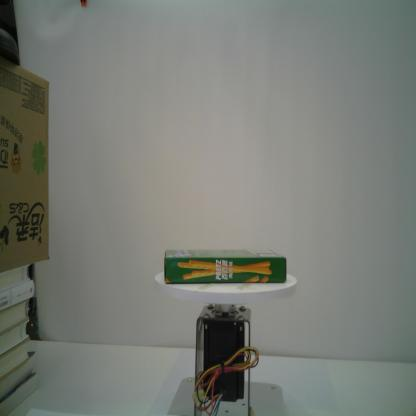Dessert: (163, 248, 287, 285)
